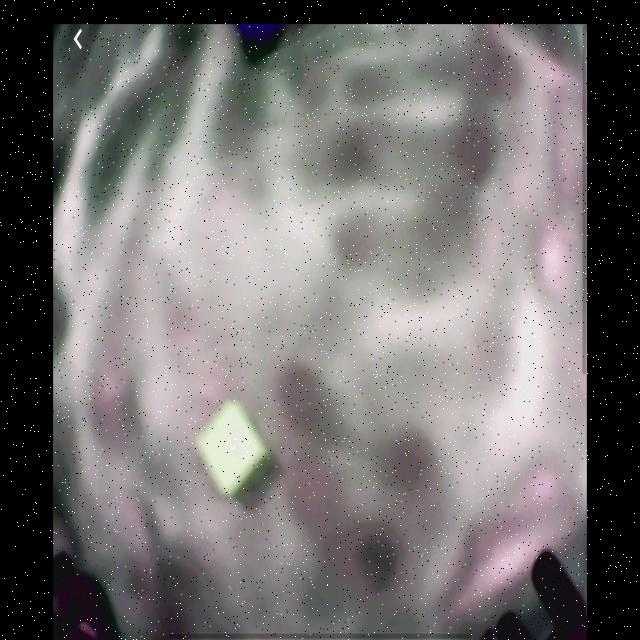ball: (230, 22, 290, 55)
